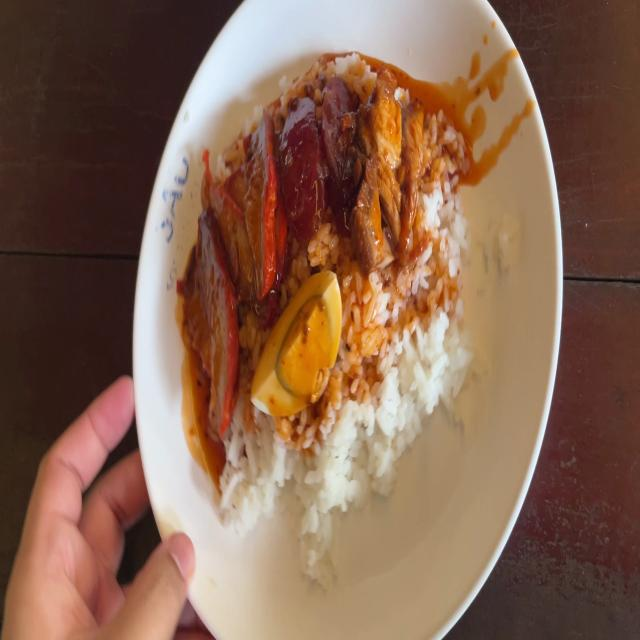01boiled_egg: (250, 276, 340, 416)
01chainese_sausage: (286, 86, 356, 227)
01crispy_pork: (365, 76, 423, 262)
01red_pork: (194, 124, 276, 424)
01red_pork_and_crispy_pork: (181, 67, 475, 514)
01rice: (345, 269, 466, 433), (227, 419, 395, 523), (426, 125, 461, 274)
